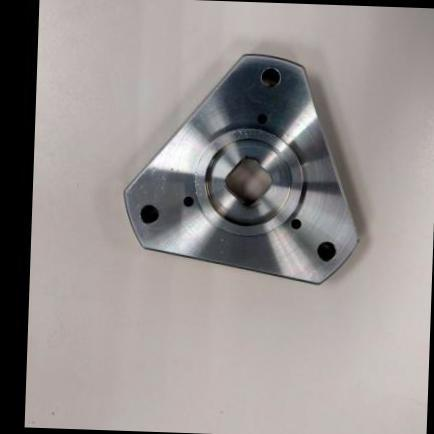hole: (136, 201, 162, 226), (314, 238, 338, 264), (258, 64, 282, 90), (253, 110, 270, 126), (288, 216, 302, 230), (180, 194, 194, 208)
